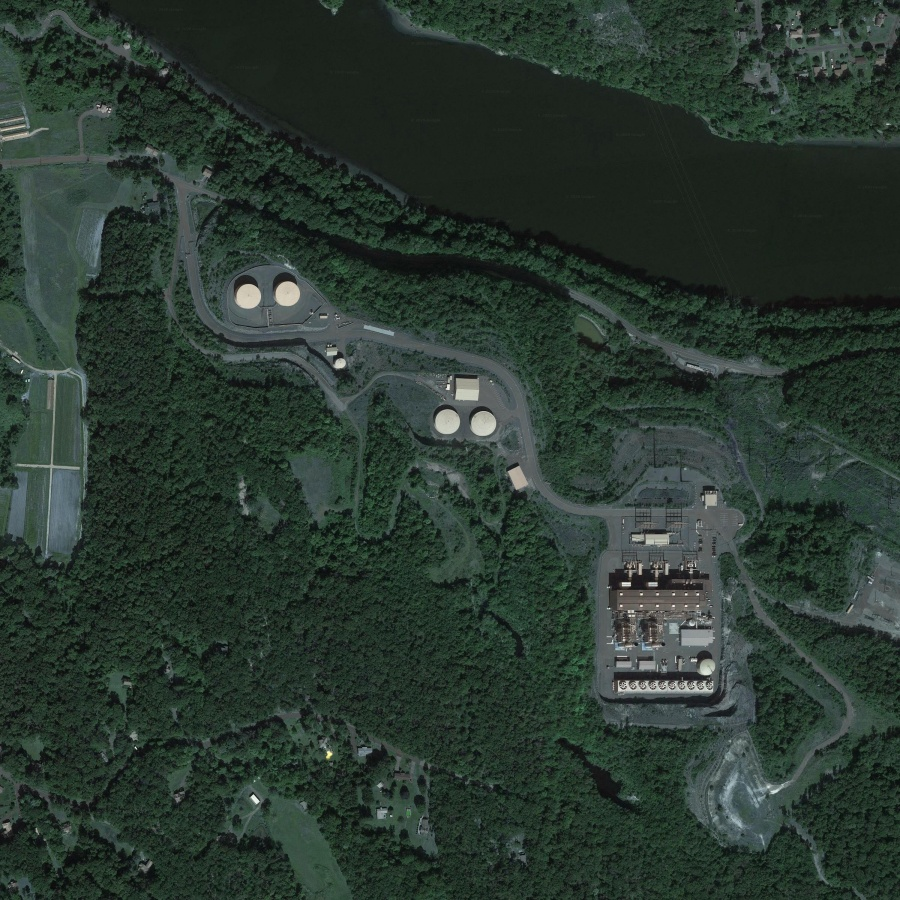PowerPlant: (600, 470, 746, 710)
